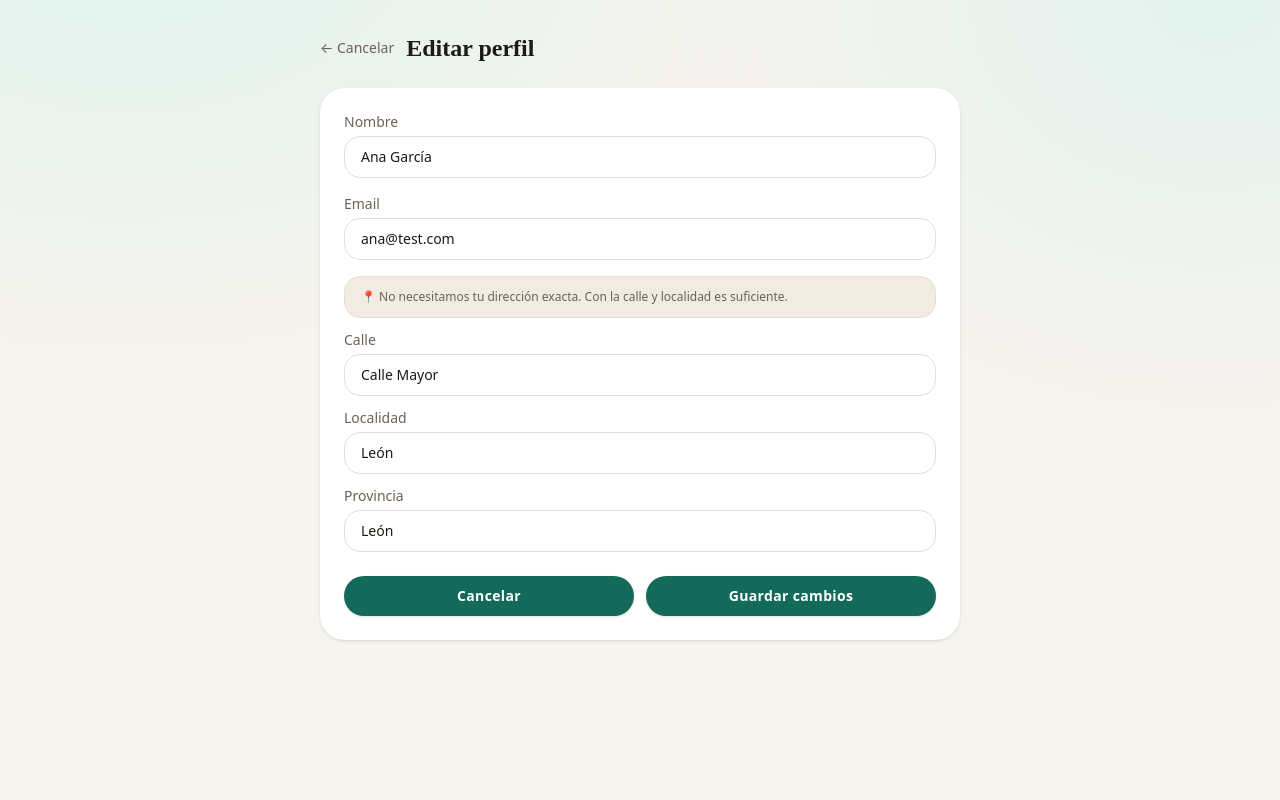
Test: EditProfilePage › limpia el error del campo al modificarlo
Replace the text in the field labelled "Calle" with "Calle 123" at point(640, 375), box [344, 354, 936, 396]
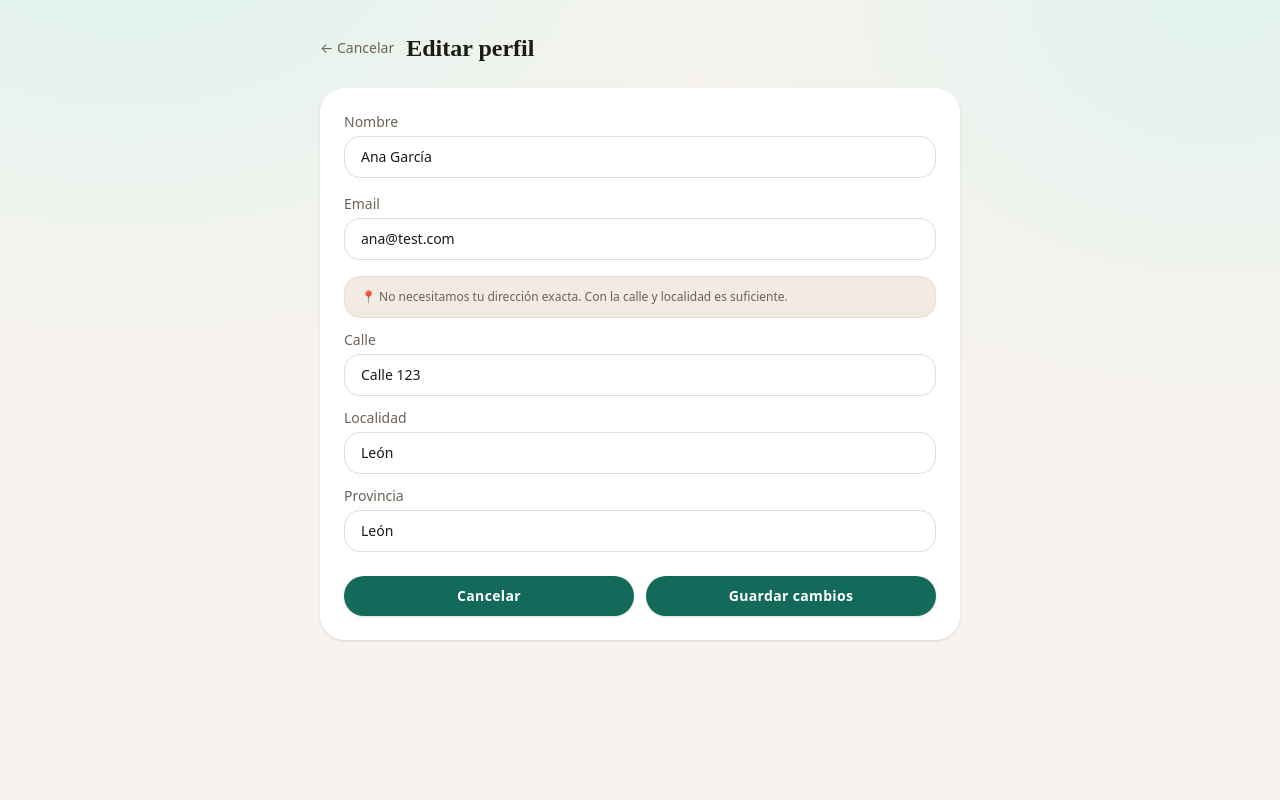
Click the button "Guardar cambios".
click(791, 596)  # box [646, 576, 936, 616]
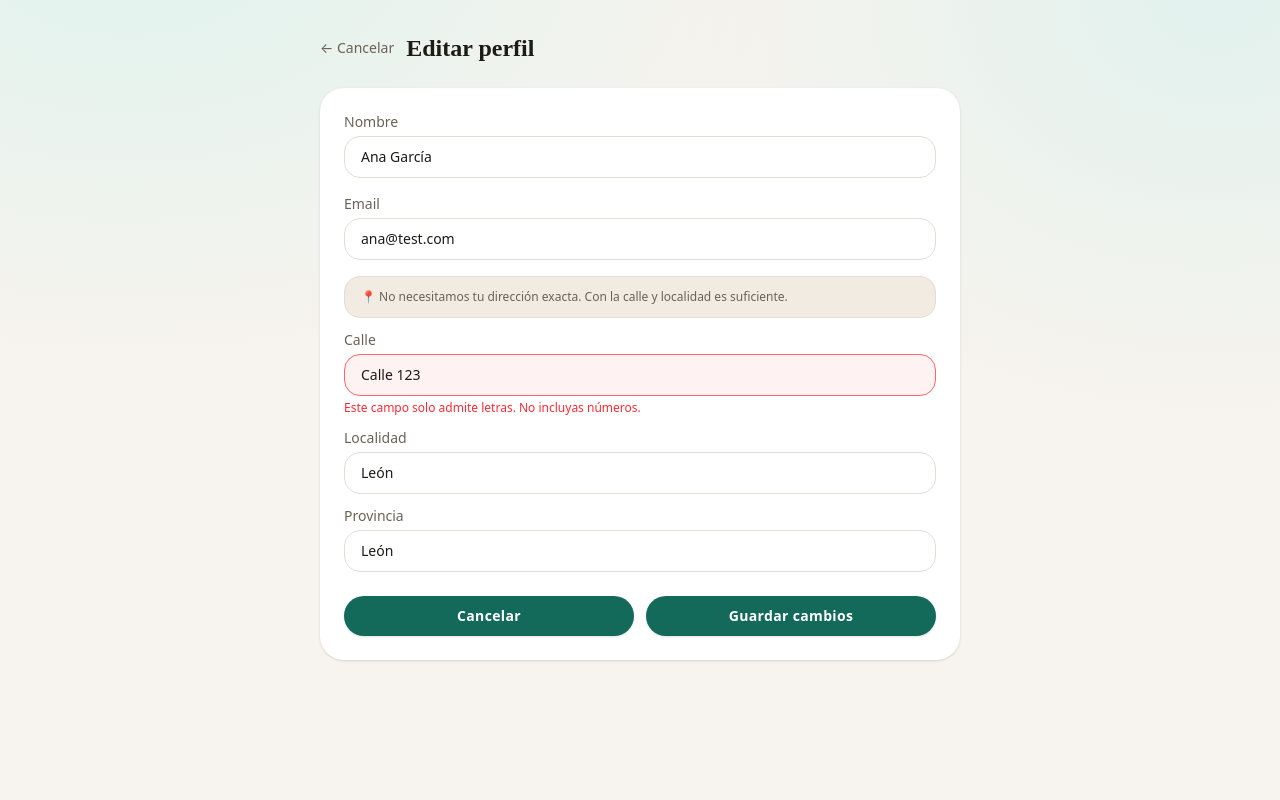
expect the text "Este campo solo admite letras. No incluyas números." is shown once: met, box [344, 399, 641, 416]
Replace the text in the field labelled "Calle" with "Calle Nueva" at point(640, 375), box [344, 354, 936, 396]
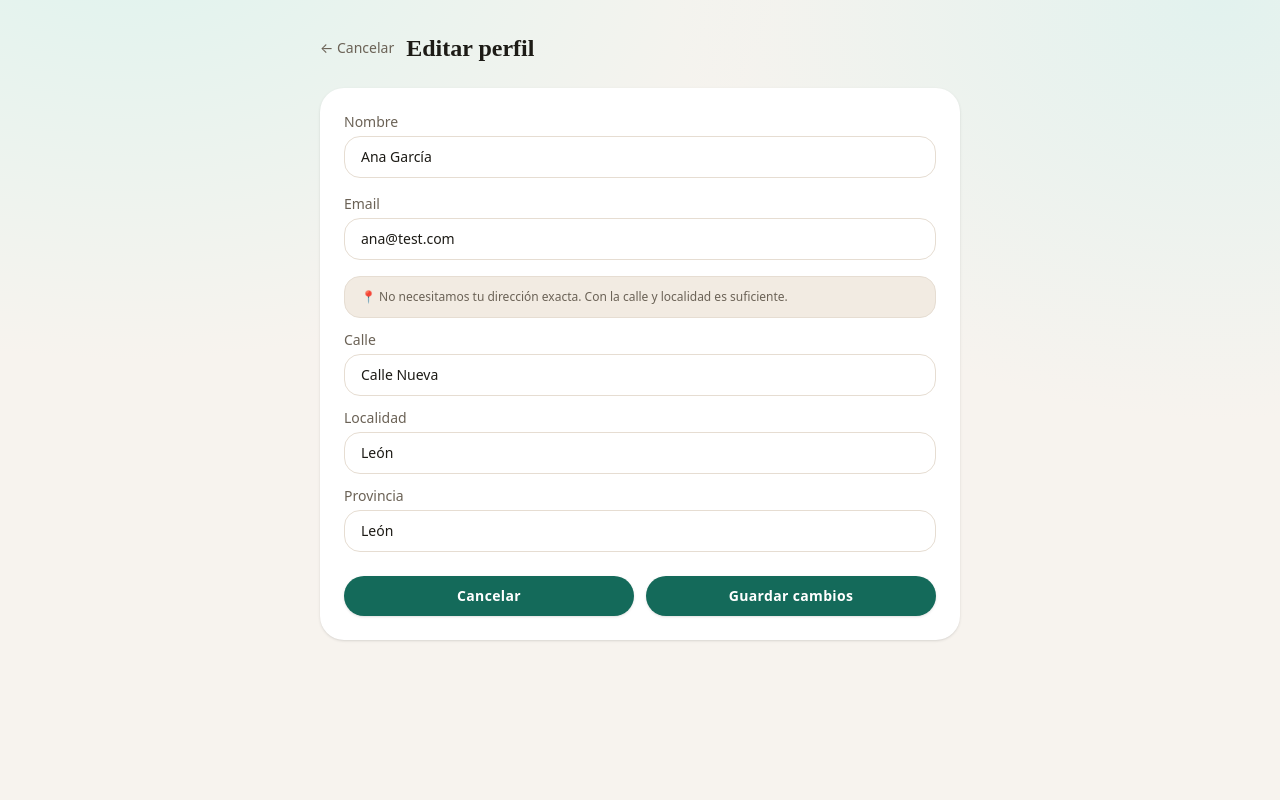
expect the text "Este campo solo admite letras. No incluyas números." is gone: met
